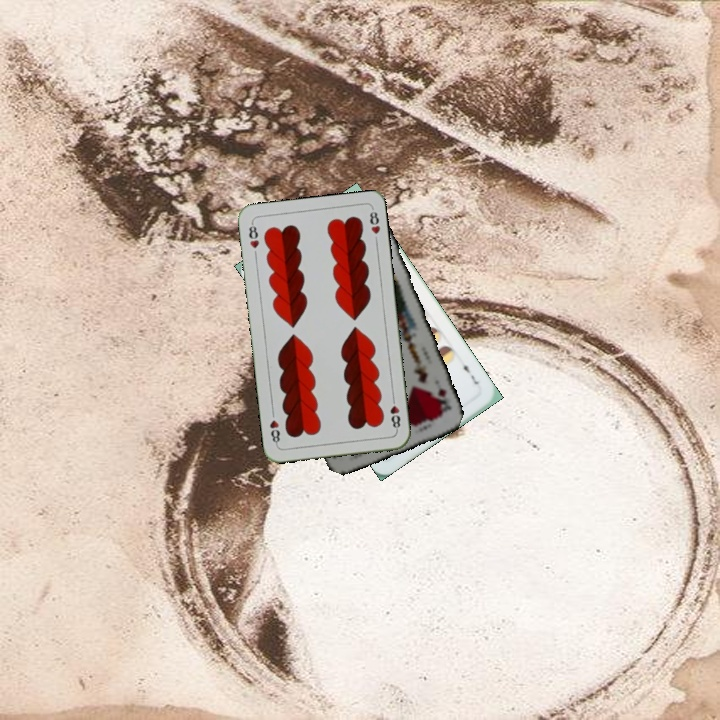E7: (459, 357, 482, 387)
H8: (386, 393, 403, 433), (245, 219, 261, 251)
HK: (429, 379, 454, 418)
